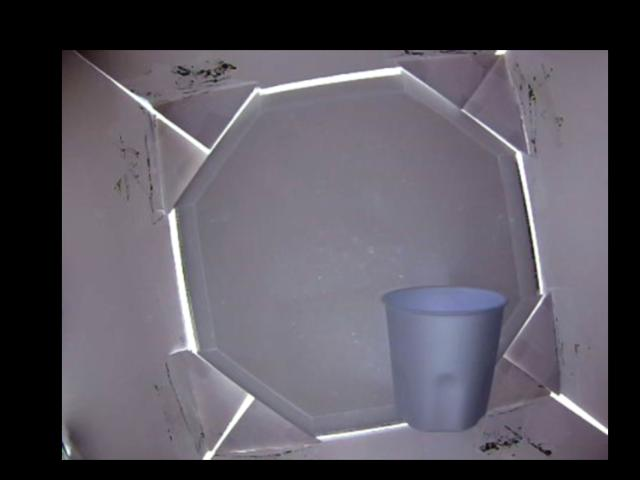Cup: (381, 282, 507, 430)
